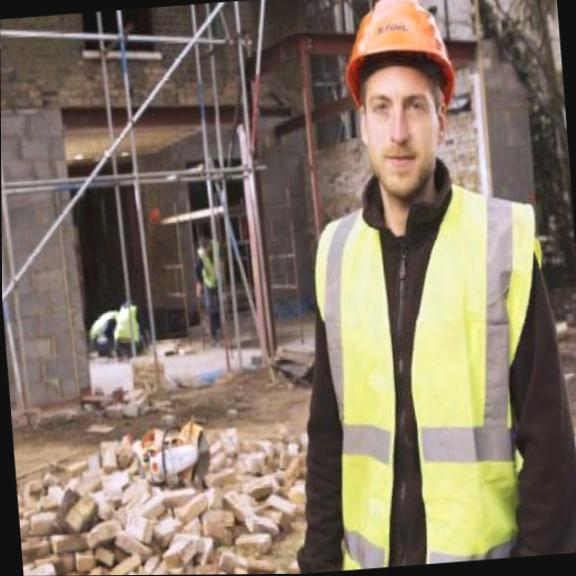safety_vest: (299, 168, 574, 546)
